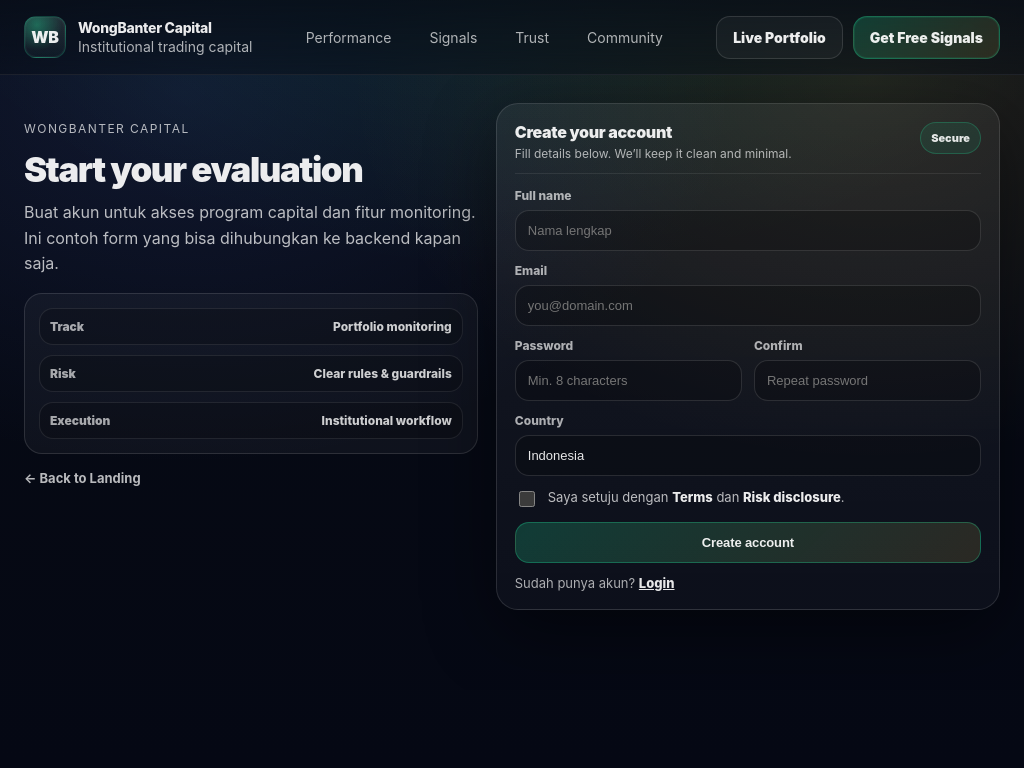
Test: register form validates required fields
Click the button "Create account" at (748, 542), box [515,522,981,563]
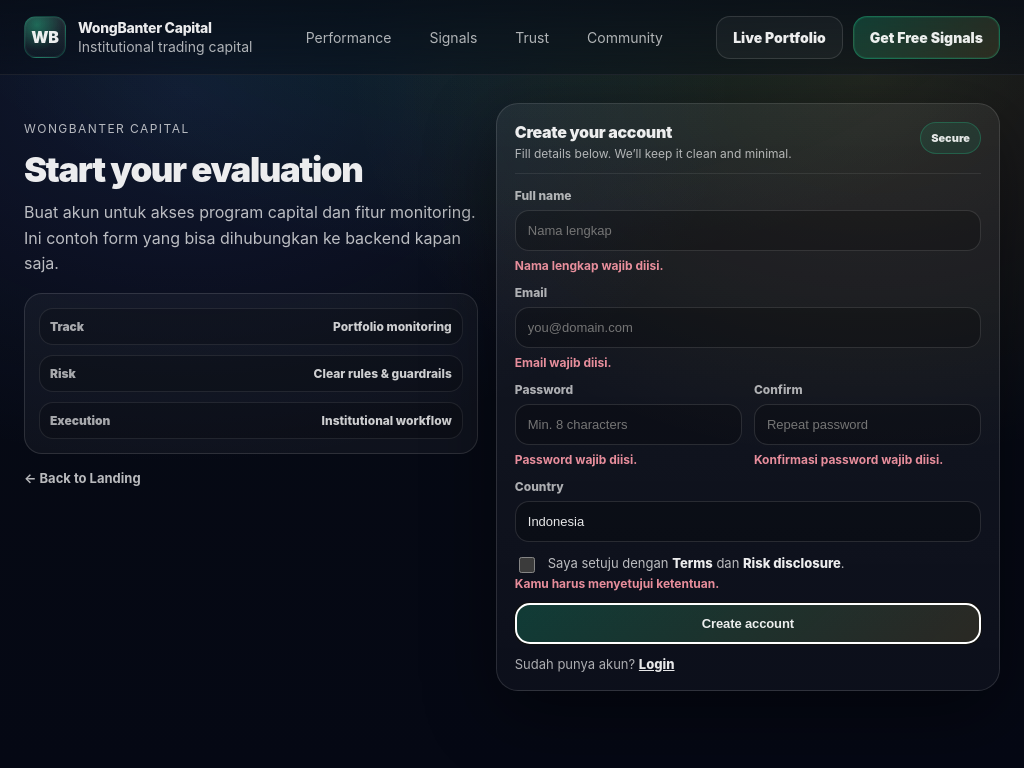
Now the text "Nama lengkap wajib diisi." is shown, box [515,258,664,273]
Now the text "Email wajib diisi." is shown, box [515,355,612,370]
Now the text "Password wajib diisi." is shown, box [515,452,637,467]
